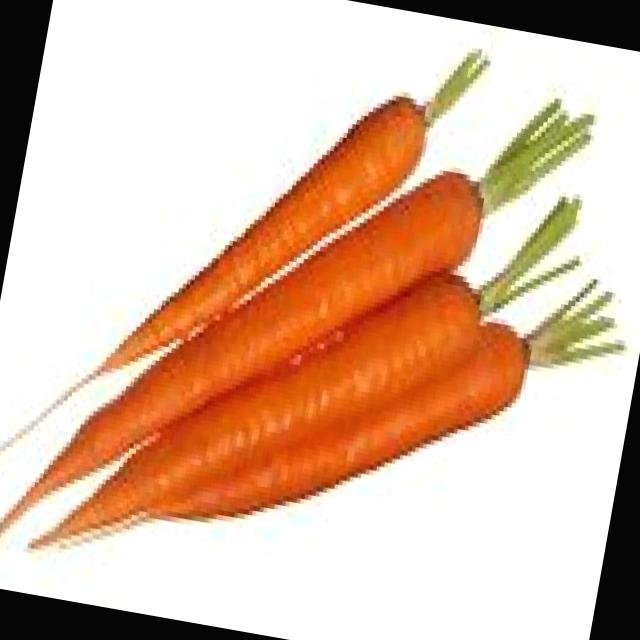carrot: (31, 169, 483, 500), (49, 279, 476, 543), (98, 94, 429, 372)
